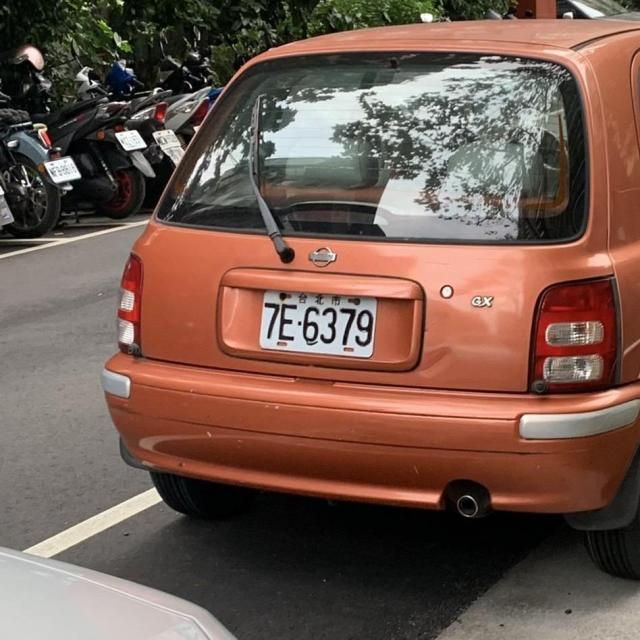W: (256, 280, 382, 359), (40, 150, 84, 185), (110, 124, 148, 153), (148, 123, 184, 152)
